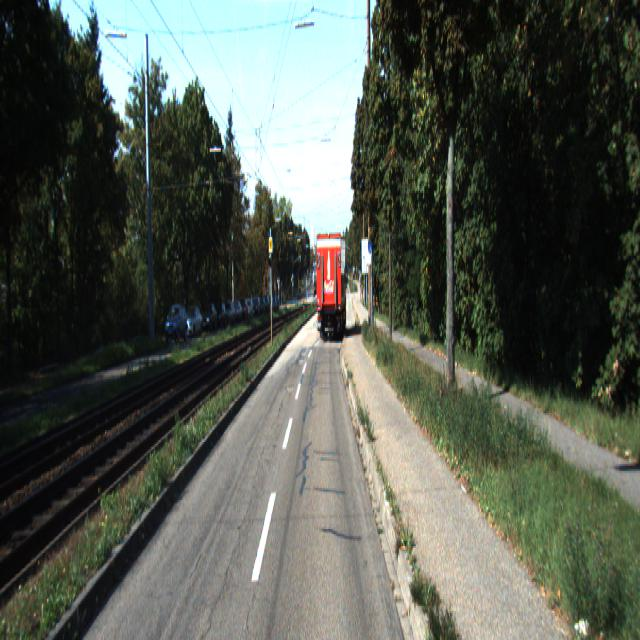Car: (314, 235, 348, 347), (164, 306, 188, 346), (179, 308, 202, 342)
